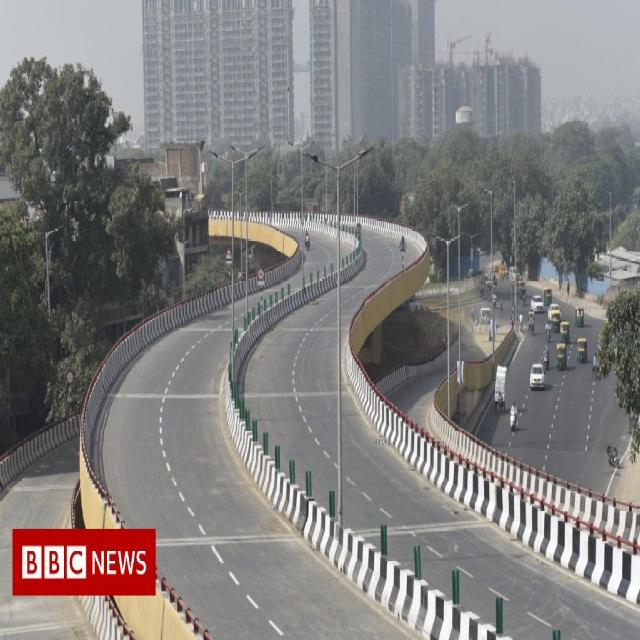Clean road: (73, 175, 640, 640)
